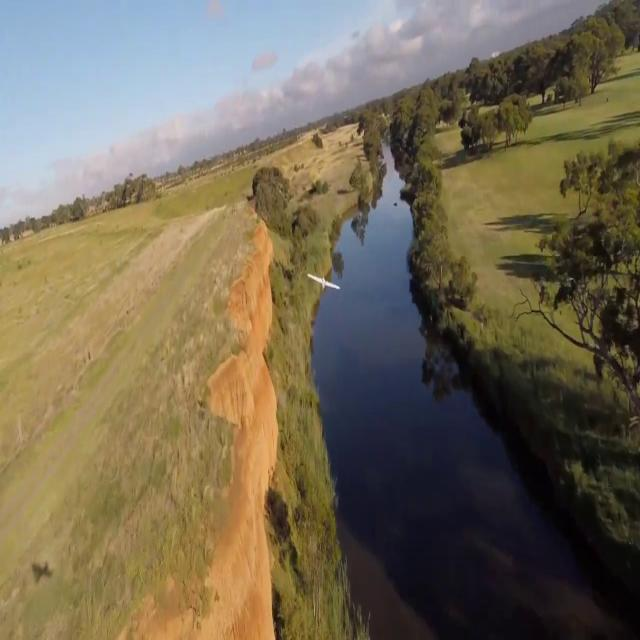iha: (304, 270, 343, 292)
